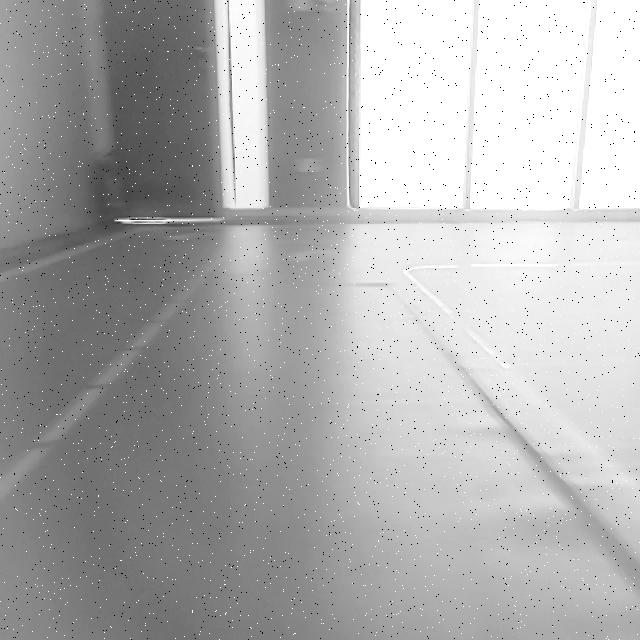left_lane: (0, 260, 222, 498)
right_lane: (411, 274, 640, 530)
